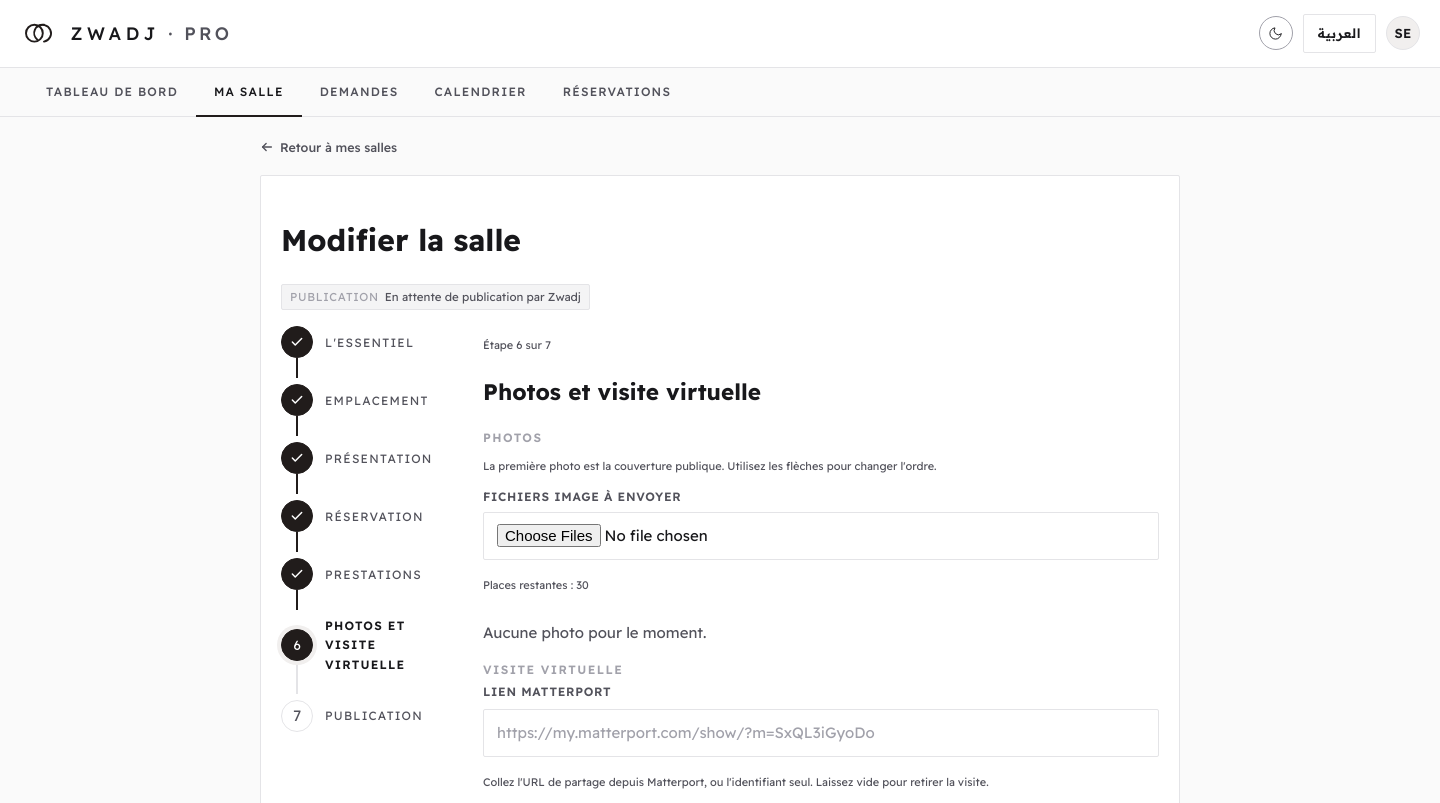
Test: Édition — PATCH par diff, 404 indistinct, équipements › format invalide au blur : message inline, AUCUN appel API tant qu'on n'enregistre pas
Type "https://exemple.dz/show/?m=SxQL3iGyoDo" into the field labelled "Lien Matterport" at (821, 733), box left=483, top=709, right=1159, bottom=757
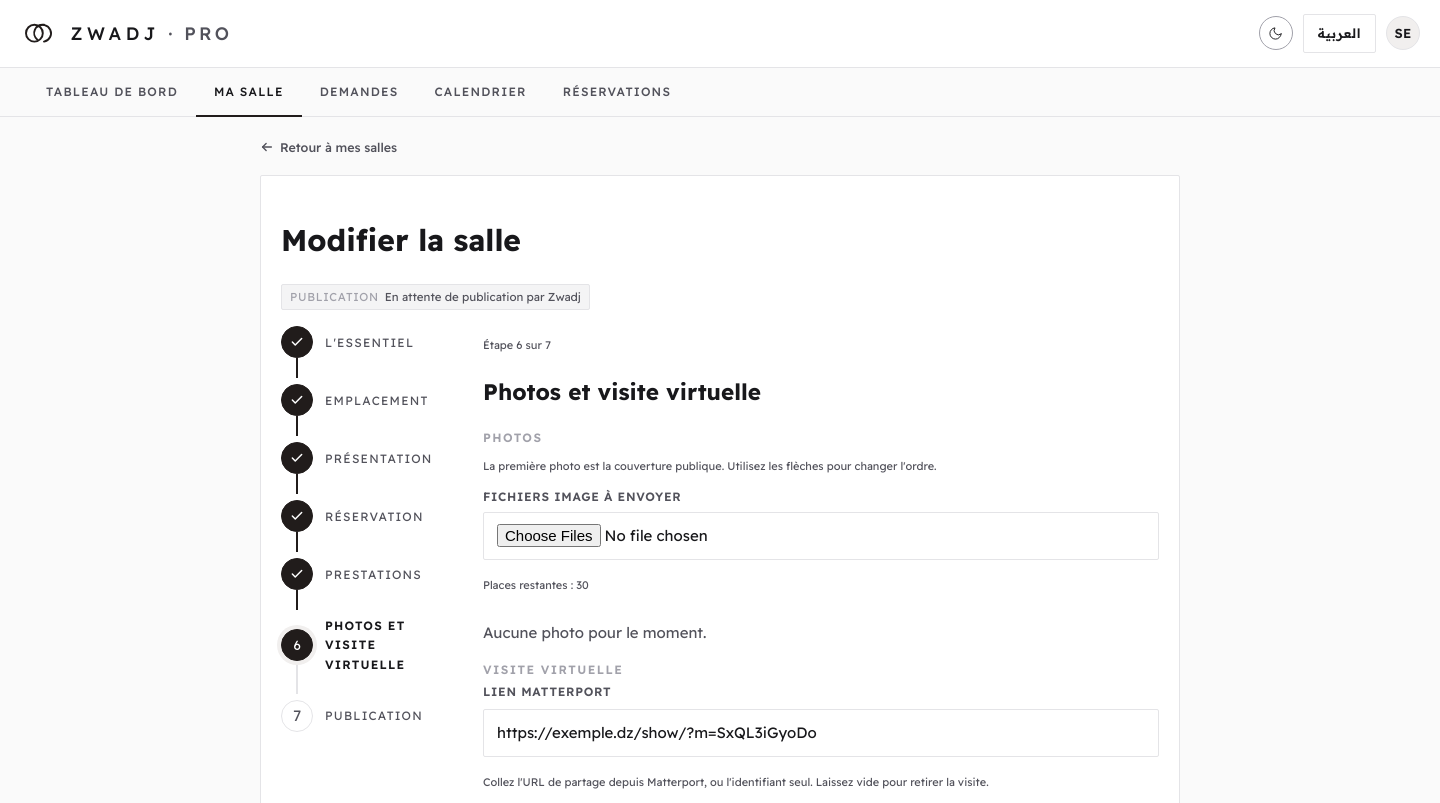
Leave the field labelled "Lien Matterport", box left=483, top=709, right=1159, bottom=757
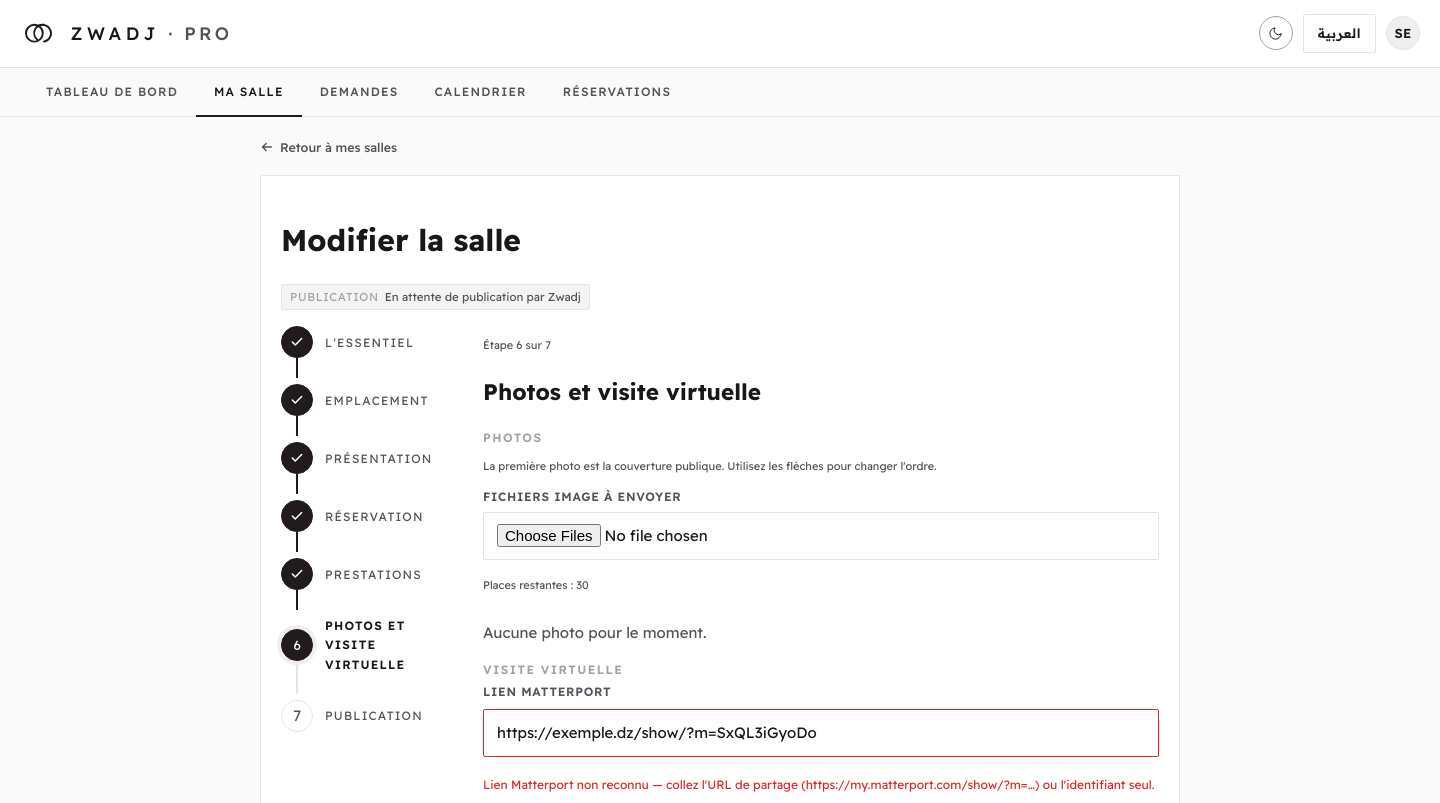
Expected: the text "Lien Matterport non reconnu" is shown, left=483, top=777, right=1155, bottom=792
